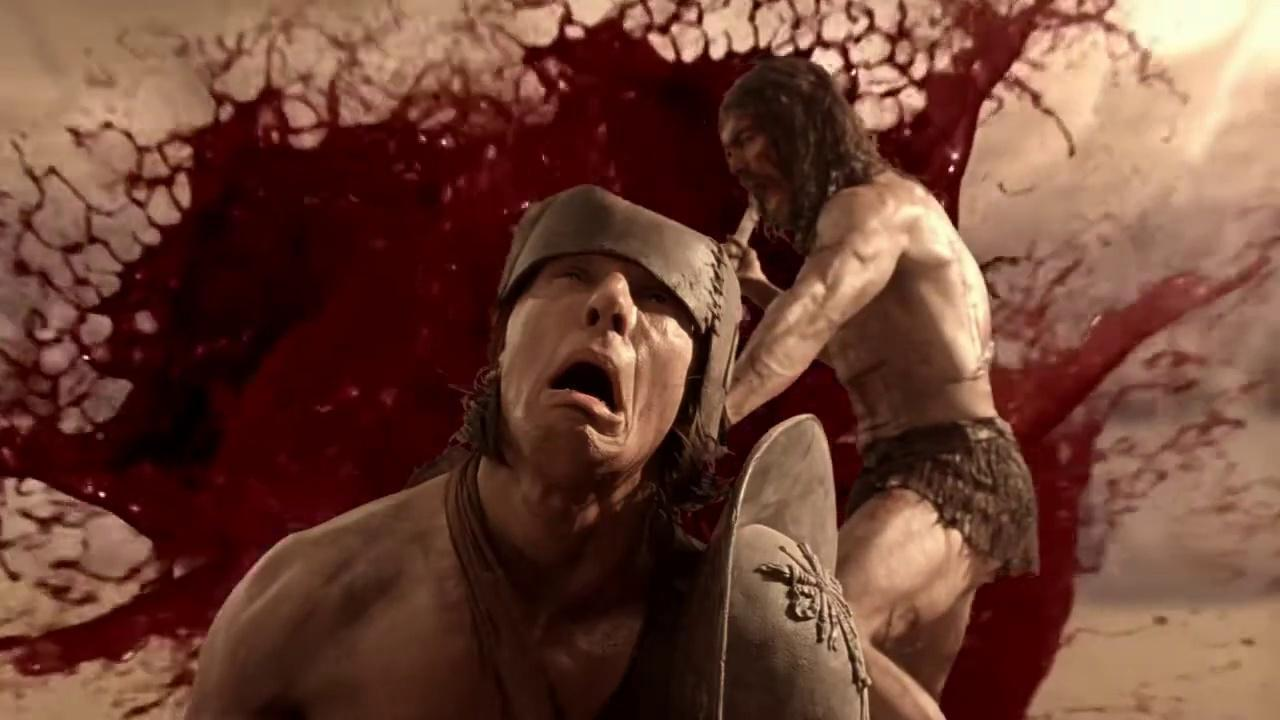Fire: (0, 0, 1280, 718)
